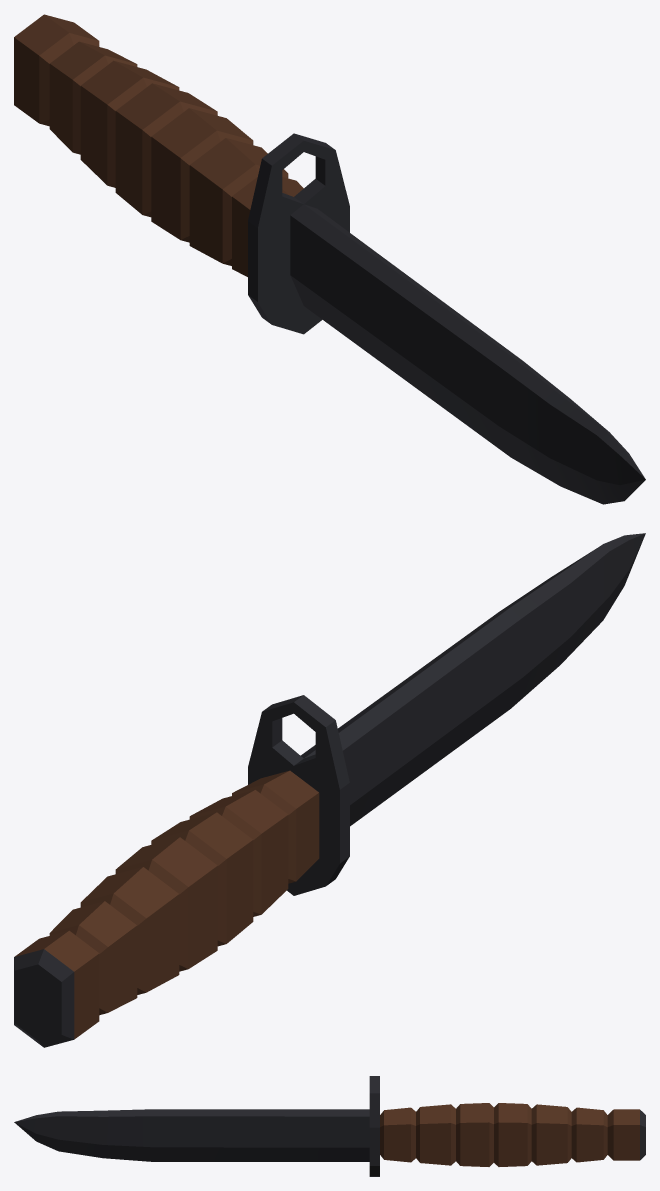
File: LPWarPack_CombatKnife.fbx
3 renders of one model, top to bottom at view 1: azimuth 30°, elevation 25°; view 2: azimuth 150°, elevation 25°; view 3: azimuth 270°, elevation 25°, orthographic. The views are drawn at different scales.
Parts seen in each view (by area): view 1: CombatKnife; view 2: CombatKnife; view 3: CombatKnife.
Part boxes in pixels (x1,y1,x2,y2): CombatKnife: [14, 14, 645, 504]; CombatKnife: [14, 533, 645, 1047]; CombatKnife: [14, 1076, 645, 1176].
Size of the model in its own units: 2.47 by 4.96 by 28.21.
